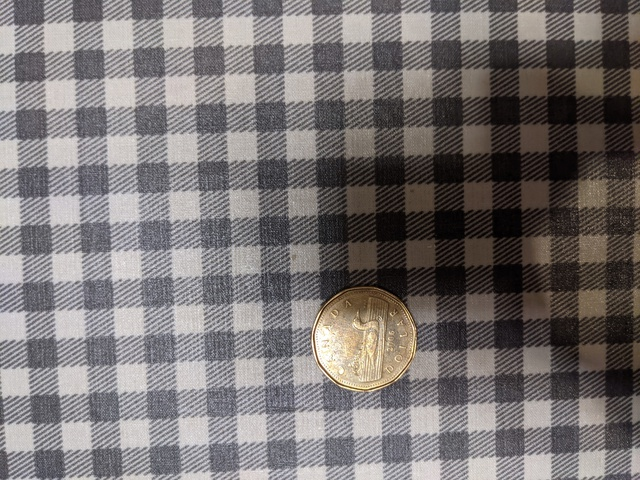loonie: (305, 284, 423, 393)
